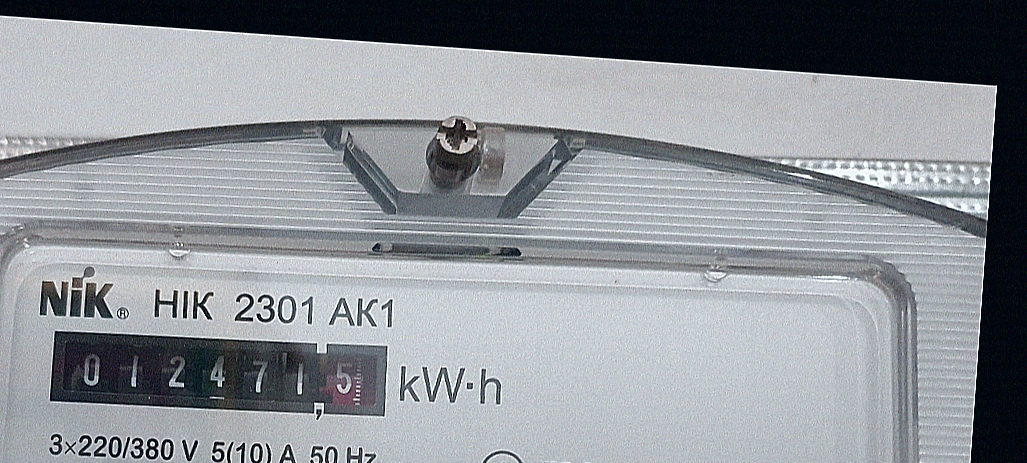0: (77, 348, 103, 386)
1: (126, 351, 140, 387), (292, 358, 305, 395)
2: (165, 351, 188, 389)
4: (206, 350, 228, 388)
5: (332, 356, 355, 395)
7: (245, 354, 269, 394)
screen: (37, 311, 401, 433)
